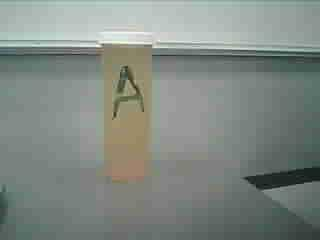Bottle A: (101, 30, 152, 181)
